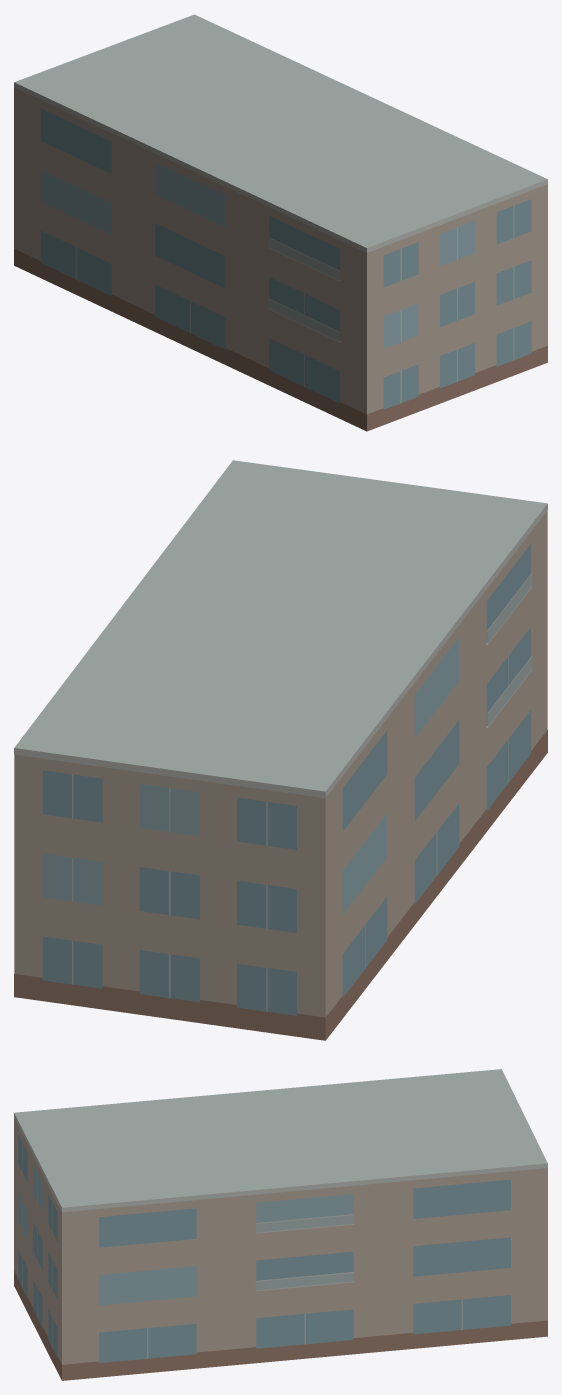
The model's file is survey-upis-32603066.glb.
3 renders of one model, top to bottom at view 1: azimuth 30°, elevation 25°; view 2: azimuth 150°, elevation 25°; view 3: azimuth 270°, elevation 25°, orthographic. The views are drawn at different scales.
Visible parts, largest first — view 1: survey-upis-32603066.tmp; view 2: survey-upis-32603066.tmp; view 3: survey-upis-32603066.tmp.
Part boxes in pixels (x1,y1,x2,y2): survey-upis-32603066.tmp: (14,14,547,431); survey-upis-32603066.tmp: (14,460,547,1040); survey-upis-32603066.tmp: (14,1069,547,1380).
Bounding box in the file's own units: 15.73 × 9.15 × 25.58.
